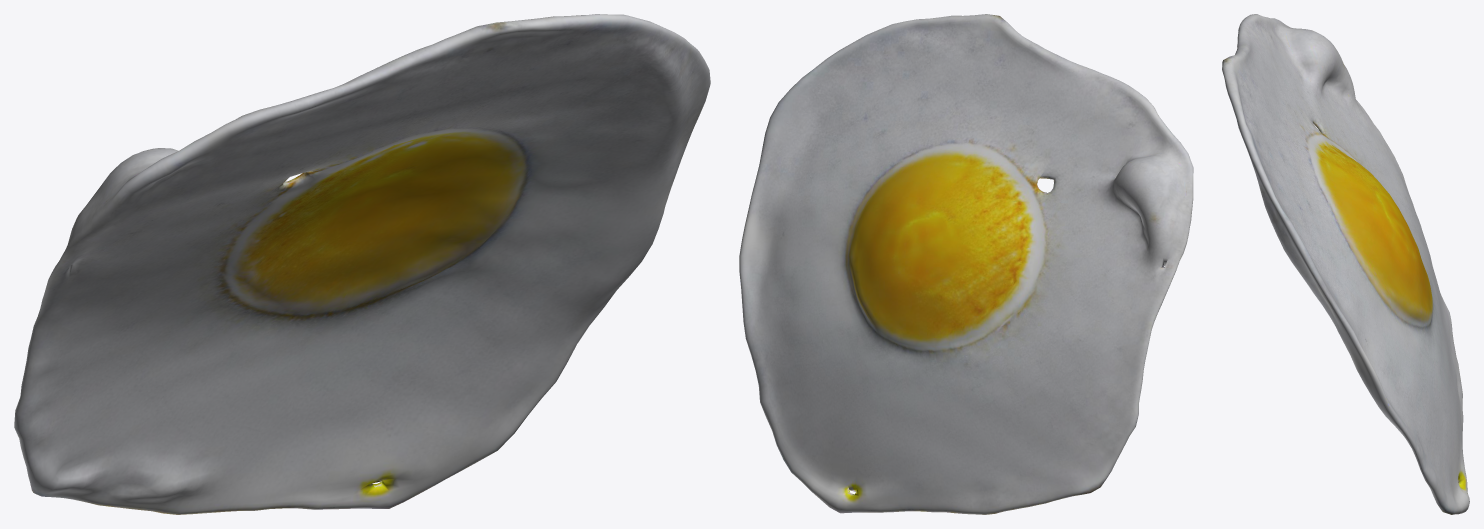
Rendered from Plat.fbx.
3 views of the same model, side by side, from view 1: azimuth 30°, elevation 25°; view 2: azimuth 150°, elevation 25°; view 3: azimuth 270°, elevation 25° (orthographic). The views are drawn at different scales.
Visible parts, largest first — view 1: mesh; view 2: mesh; view 3: mesh.
Boxes of the visible parts, x1=… form: mesh: x1=14, y1=14, x2=710, y2=514; mesh: x1=739, y1=14, x2=1193, y2=514; mesh: x1=1222, y1=14, x2=1469, y2=514.
Bounding box in the file's own units: 99.48 × 94.16 × 49.06.
